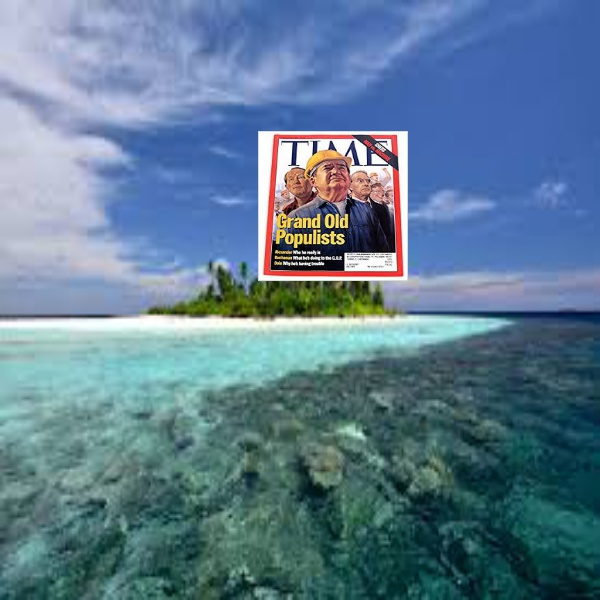time_cover: (254, 123, 416, 280)
